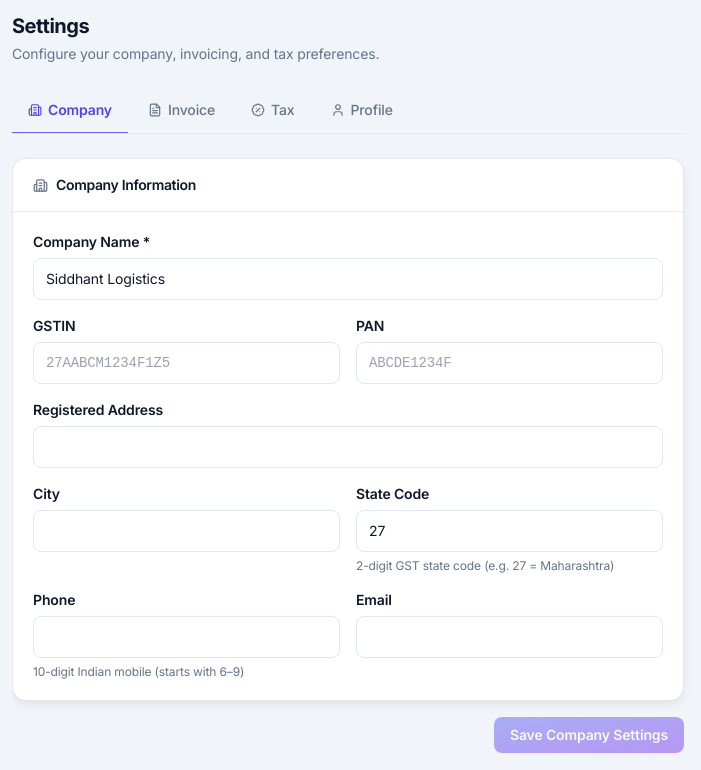
Test: SettingsPage › switches to Tax tab and shows GST rates
Click the button "Tax" at (273, 111), box top-left (235, 88), bottom-right (311, 134)
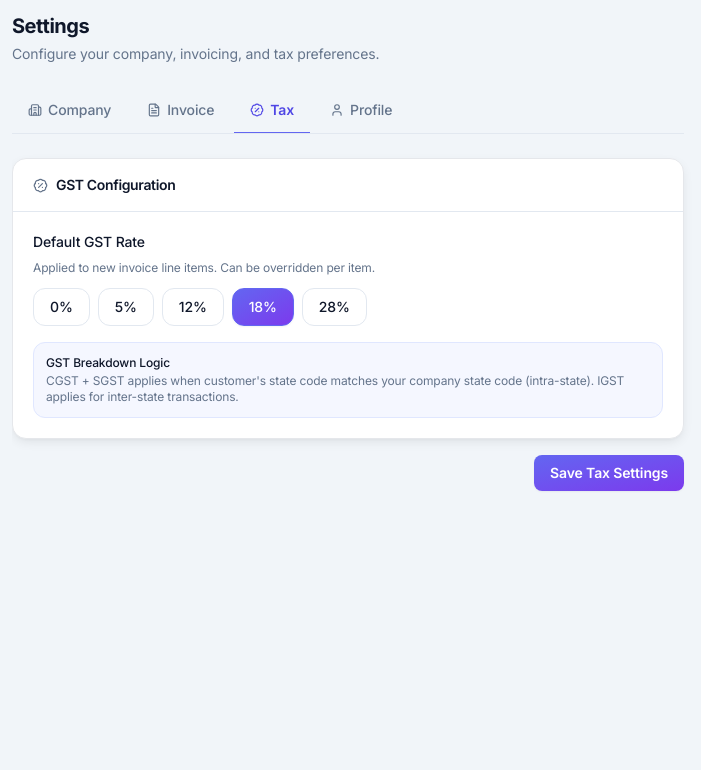
expect the text "Default GST Rate" is shown: met, box top-left (33, 233), bottom-right (145, 250)
expect the button "18%" is shown: met, box top-left (232, 288), bottom-right (294, 326)
